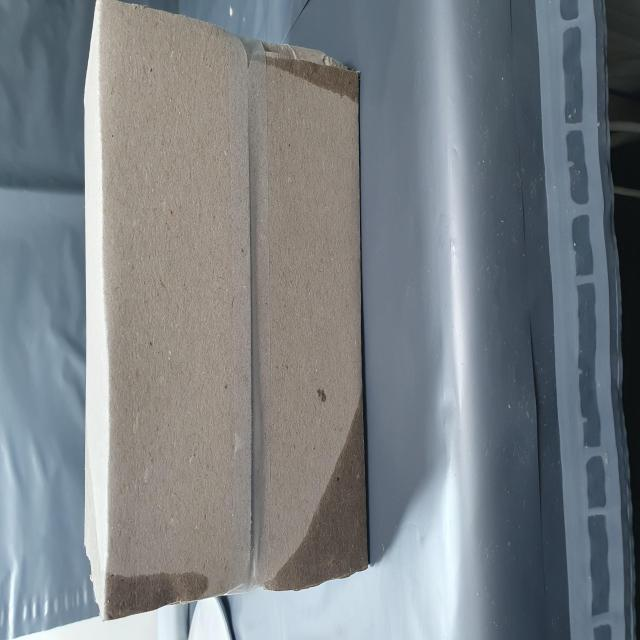wet: (28, 477, 140, 640), (10, 181, 41, 399)
